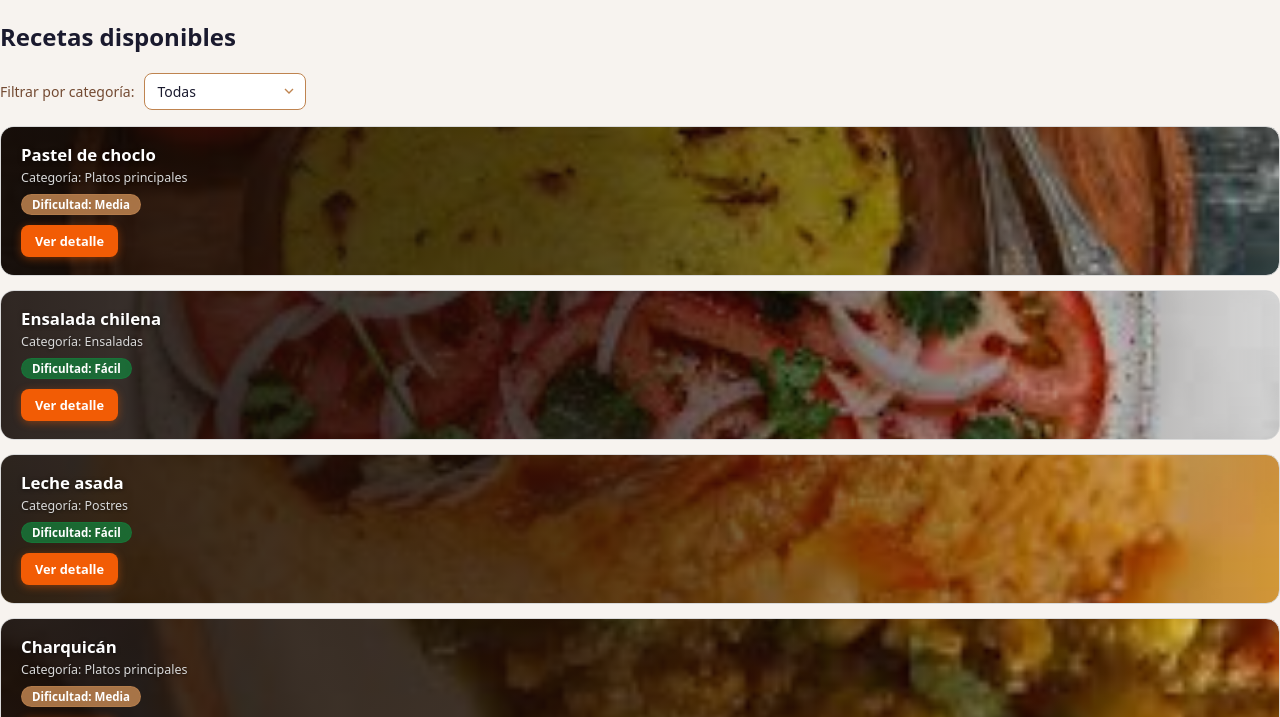
filtra recetas por categoría Ensaladas
Expected: the heading "Ensalada chilena" is shown, left=21, top=309, right=161, bottom=329
Select "Ensaladas" in the dropdown. click: {"x": 225, "y": 91}
box: left=144, top=73, right=306, bottom=110
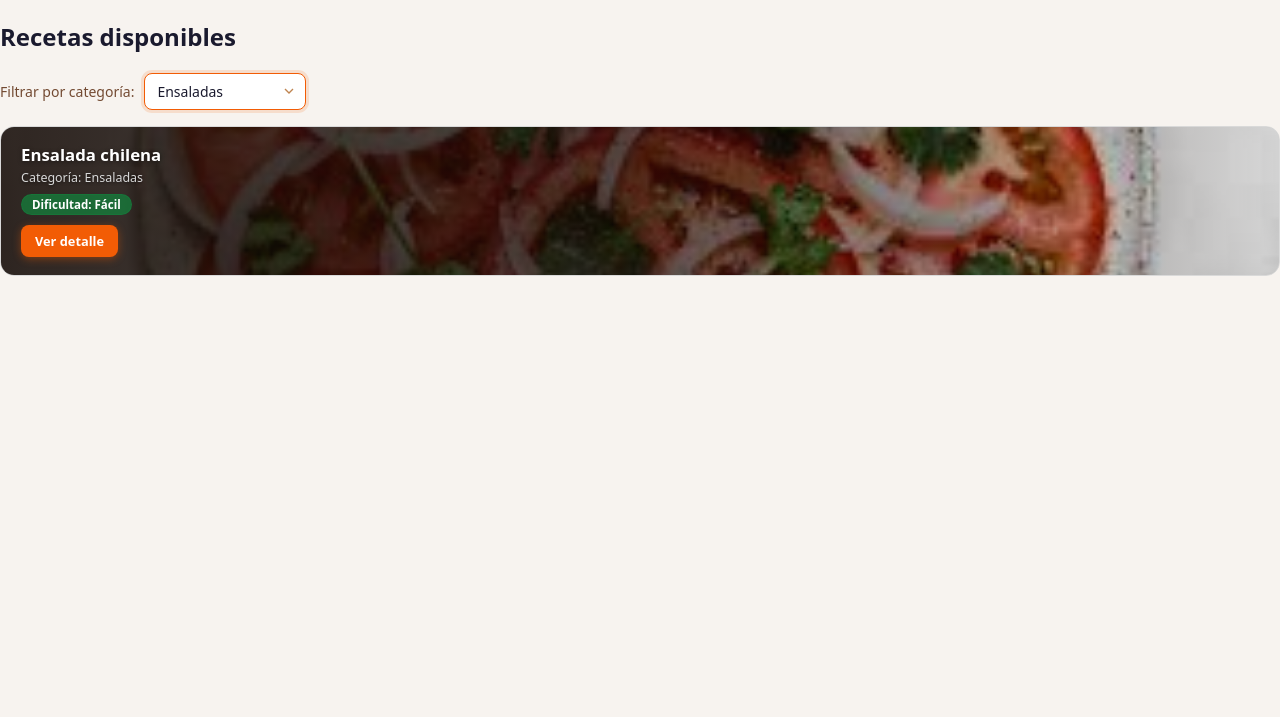
Expected: the heading "Ensalada chilena" is shown, left=21, top=145, right=161, bottom=165
Expected: the heading "Leche asada" is gone
